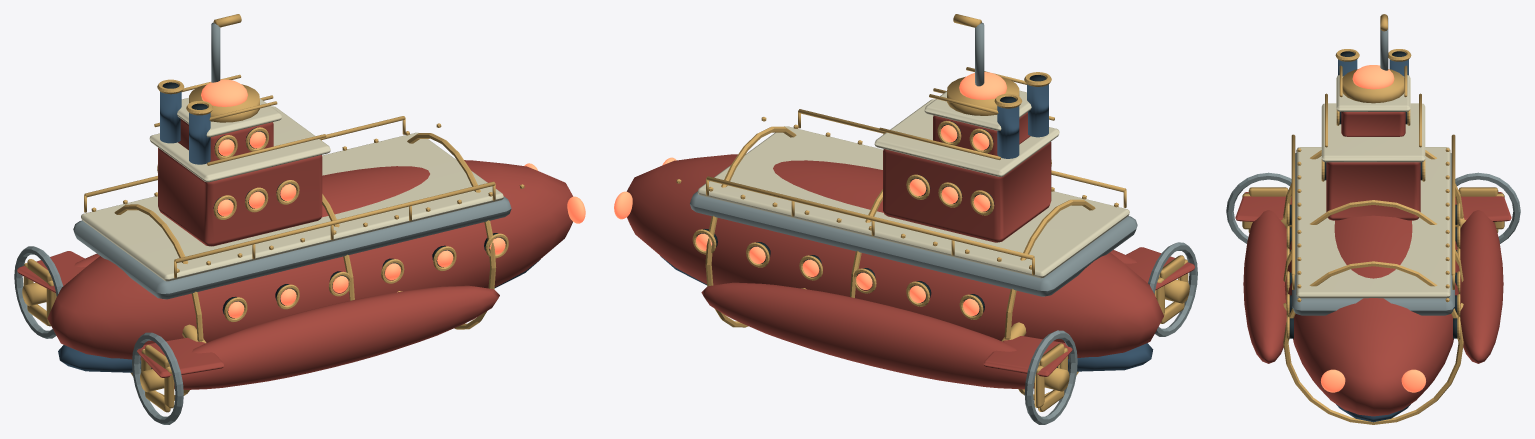
The model's file is corsair.glb.
The picture shows the model from 3 angles, left to right: view 1: azimuth 30°, elevation 25°; view 2: azimuth 150°, elevation 25°; view 3: azimuth 270°, elevation 25°; orthographic projection. The views are drawn at different scales.
Visible parts, largest first — view 1: corsair / Paint | antagonist rust red, corsair / Ceramic | warm ivory, corsair / Brass | machined champagne, corsair / Iron | weathered steel, corsair / Lamp | coral red, corsair / Paint | Prussian blue, corsair / Rubber | dark insets; view 2: corsair / Paint | antagonist rust red, corsair / Ceramic | warm ivory, corsair / Brass | machined champagne, corsair / Iron | weathered steel, corsair / Lamp | coral red, corsair / Paint | Prussian blue, corsair / Rubber | dark insets; view 3: corsair / Paint | antagonist rust red, corsair / Ceramic | warm ivory, corsair / Brass | machined champagne, corsair / Iron | weathered steel, corsair / Lamp | coral red, corsair / Rubber | dark insets, corsair / Paint | Prussian blue.
Part boxes in pixels (x1,y1,x2,y2): corsair / Paint | antagonist rust red: (17,119,572,389); corsair / Ceramic | warm ivory: (81,98,503,281); corsair / Brass | machined champagne: (22,14,524,412); corsair / Iron | weathered steel: (14,22,511,424); corsair / Lamp | coral red: (201,79,585,318); corsair / Paint | Prussian blue: (58,91,540,372); corsair / Rubber | dark insets: (162,82,504,318); corsair / Paint | antagonist rust red: (627,112,1194,389); corsair / Ceramic | warm ivory: (697,90,1129,278); corsair / Brass | machined champagne: (676,14,1189,411); corsair / Iron | weathered steel: (690,22,1197,424); corsair / Lamp | coral red: (614,72,1006,315); corsair / Paint | Prussian blue: (660,84,1153,371); corsair / Rubber | dark insets: (697,75,1046,316); corsair / Paint | antagonist rust red: (1235,112,1511,416); corsair / Ceramic | warm ivory: (1296,75,1450,298); corsair / Brass | machined champagne: (1242,14,1504,424); corsair / Iron | weathered steel: (1226,18,1520,315); corsair / Lamp | coral red: (1321,65,1425,392); corsair / Rubber | dark insets: (1289,51,1457,338); corsair / Paint | Prussian blue: (1336,59,1410,422).
Size of the model in its own units: 10 by 6.46 by 5.48.
